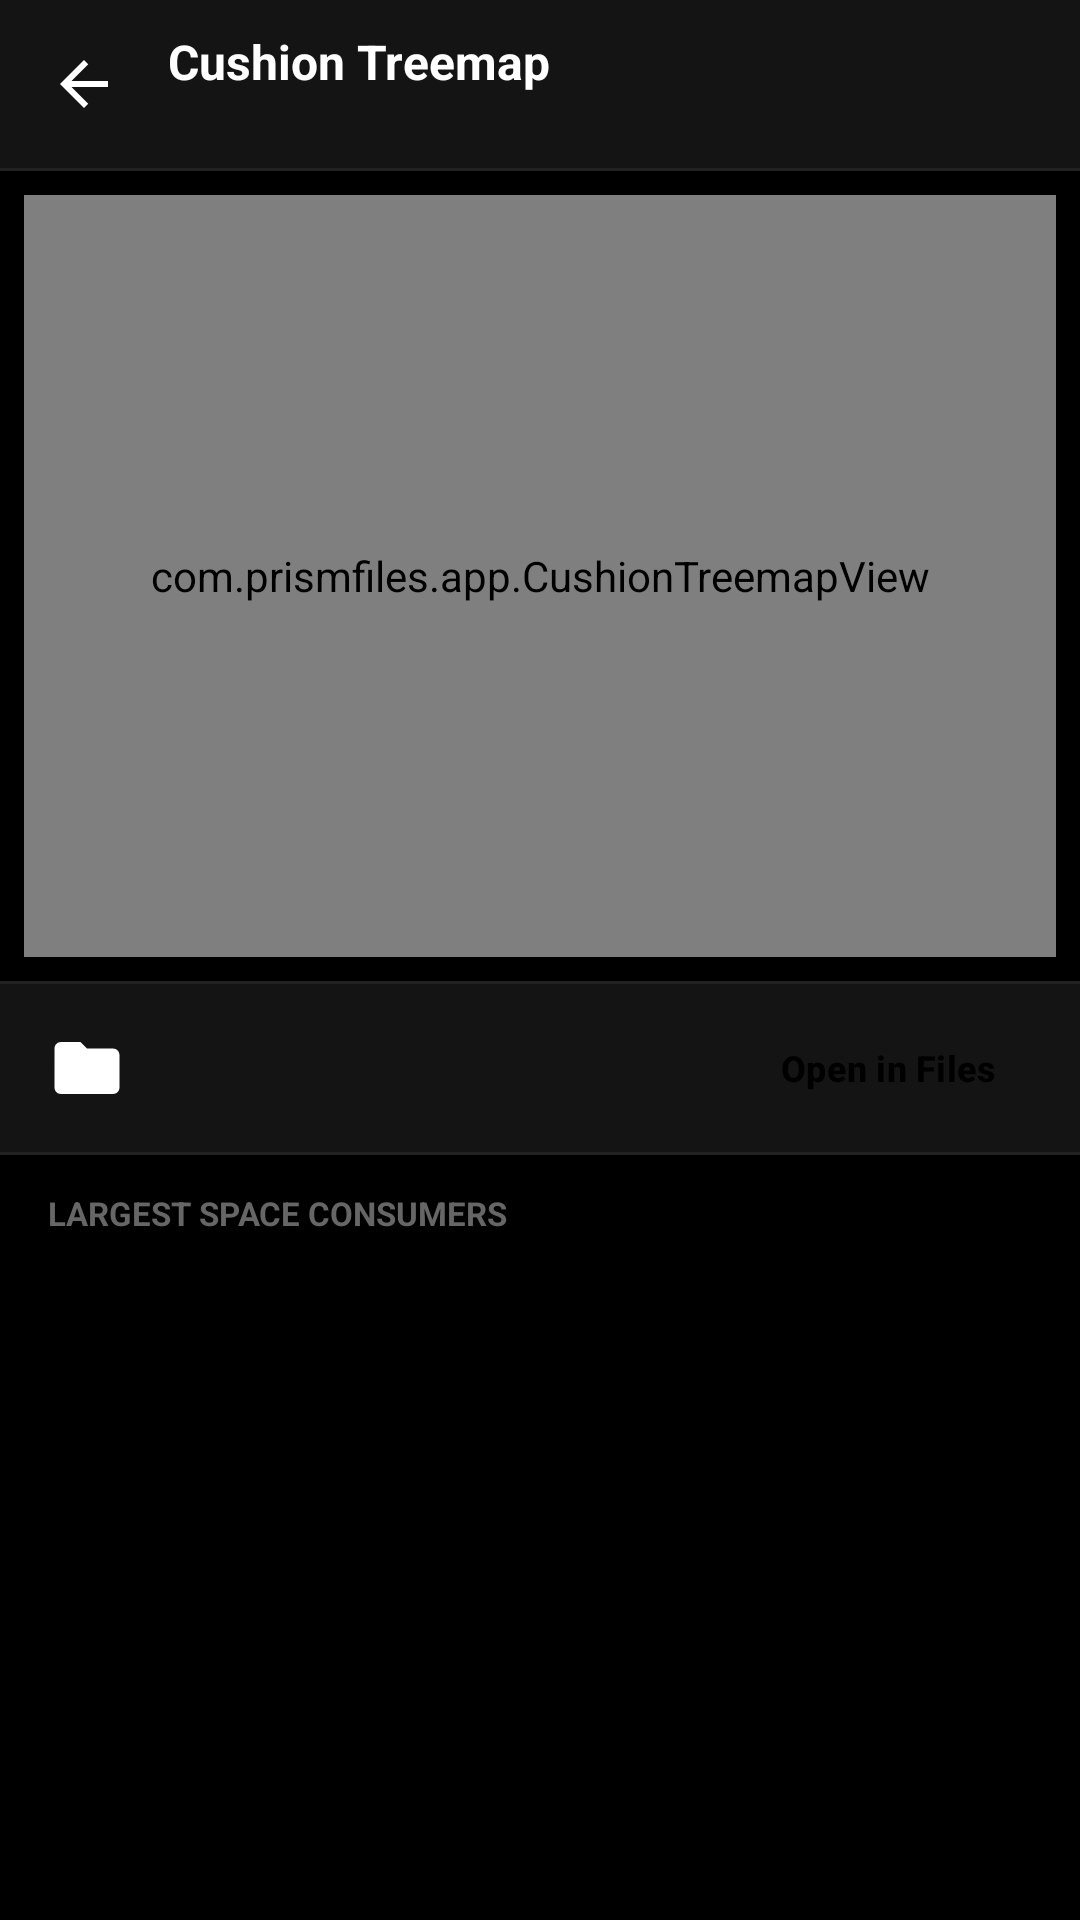

Icons on this 1080px×1920px Android screen, each with its box as rect(x1, y1, x2, y2):
Back: rect(60, 60, 108, 108)
folder: rect(54, 1042, 120, 1094)
